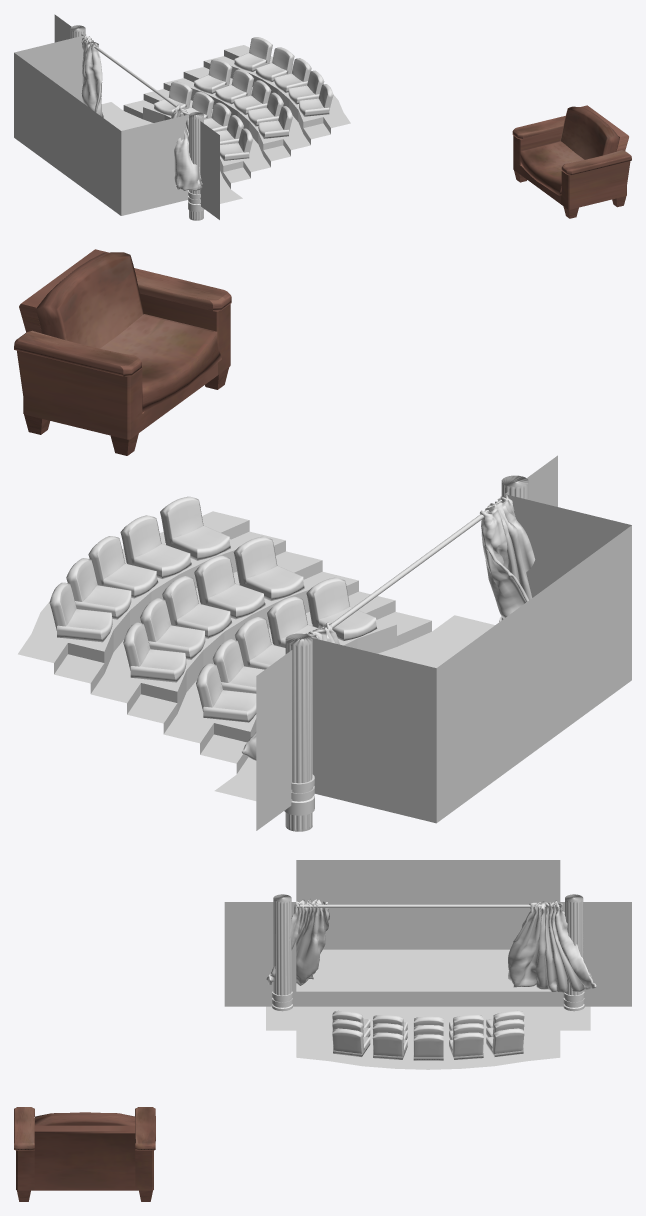
Rendered from Hackathon.fbx.
3 renders of one model, top to bottom at view 1: azimuth 30°, elevation 25°; view 2: azimuth 150°, elevation 25°; view 3: azimuth 270°, elevation 25°, orthographic. The views are drawn at different scales.
Visible parts, largest first — view 1: Cube.003, Cube.020, Cube.001, Cube.004, Cube.002, Plane.001, Cylinder.001, Plane, Cylinder; view 2: Cube.003, Cube.020, Cube.001, Cube.004, Cube.002, Cylinder.001, Plane, Cylinder; view 3: Cube.003, Cube.020, Plane.001, Cube.004, Cylinder.001, Plane, Cube.001, Cube.002, Cylinder.
Part boxes in pixels (box(x1,y1,x2,y2)): Cube.003: box(14, 14, 350, 219); Cube.020: box(512, 105, 631, 218); Cube.001: box(193, 59, 292, 138); Cube.004: box(234, 37, 333, 116); Cube.002: box(154, 81, 253, 160); Plane.001: box(81, 34, 103, 117); Cylinder.001: box(70, 25, 204, 220); Plane: box(171, 105, 202, 191); Cylinder: box(85, 39, 187, 112); Cube.003: box(18, 455, 631, 830); Cube.020: box(14, 249, 231, 455); Cube.001: box(123, 536, 304, 682); Cube.004: box(49, 496, 230, 642); Cube.002: box(196, 577, 377, 722); Cylinder.001: box(284, 475, 528, 831); Plane: box(479, 495, 535, 618); Cylinder: box(317, 499, 501, 638); Cube.003: box(224, 860, 631, 1069); Cube.020: box(14, 1107, 155, 1201); Plane.001: box(508, 900, 596, 992); Cube.004: box(332, 1028, 524, 1060); Cylinder.001: box(272, 894, 584, 1011); Plane: box(266, 899, 329, 985); Cube.001: box(332, 1019, 524, 1039); Cube.002: box(332, 1010, 524, 1030); Cylinder: box(297, 904, 559, 907).
Size of the model in its own units: 1152 by 281 by 1247.
2 materials, 1 textured.
